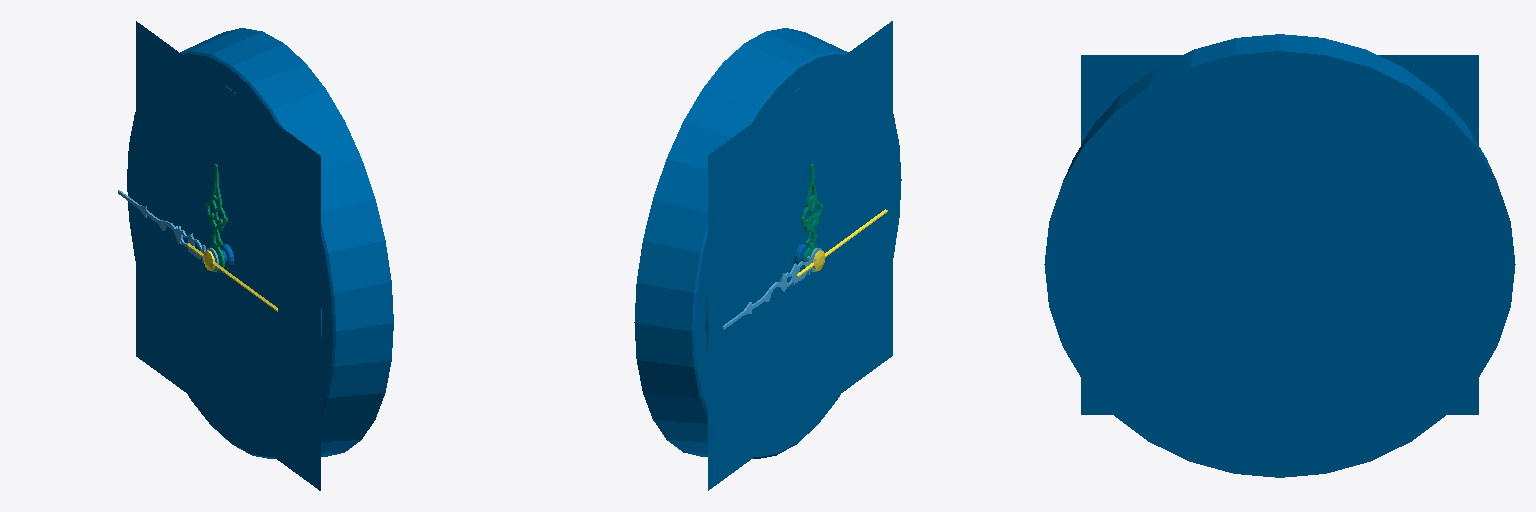
URDF robot description (partnet_fb0dbe220131e28f6402b8f491cd92c7):
<?xml version="1.0" ?>
<robot name="partnet_fb0dbe220131e28f6402b8f491cd92c7">
	<link name="base"/>
	<link name="link_0">
		<visual name="hand-8">
			<origin xyz="0.023237063303842342 -0.011120337189287621 -0.2147980000000005"/>
			<geometry>
				<mesh filename="textured_objs/original-5.obj"/>
			</geometry>
		</visual>
		<collision>
			<origin xyz="0.023237063303842342 -0.011120337189287621 -0.2147980000000005"/>
			<geometry>
				<mesh filename="textured_objs/original-5.obj"/>
			</geometry>
		</collision>
	</link>
	<joint name="joint_0" type="continuous">
		<origin xyz="-0.023237063303842342 0.011120337189287621 0.2147980000000005"/>
		<axis xyz="0 0 1"/>
		<child link="link_0"/>
		<parent link="link_3"/>
	</joint>
	<link name="link_1">
		<visual name="hand-9">
			<origin xyz="0.023237063303842342 -0.011120337189287621 -0.2147980000000005"/>
			<geometry>
				<mesh filename="textured_objs/original-4.obj"/>
			</geometry>
		</visual>
		<collision>
			<origin xyz="0.023237063303842342 -0.011120337189287621 -0.2147980000000005"/>
			<geometry>
				<mesh filename="textured_objs/original-4.obj"/>
			</geometry>
		</collision>
	</link>
	<joint name="joint_1" type="continuous">
		<origin xyz="-0.023237063303842342 0.011120337189287621 0.2147980000000005"/>
		<axis xyz="0 0 1"/>
		<child link="link_1"/>
		<parent link="link_3"/>
	</joint>
	<link name="link_2">
		<visual name="hand-10">
			<origin xyz="0.023237063303842342 -0.011120337189287621 -0.2147980000000005"/>
			<geometry>
				<mesh filename="textured_objs/original-3.obj"/>
			</geometry>
		</visual>
		<collision>
			<origin xyz="0.023237063303842342 -0.011120337189287621 -0.2147980000000005"/>
			<geometry>
				<mesh filename="textured_objs/original-3.obj"/>
			</geometry>
		</collision>
	</link>
	<joint name="joint_2" type="continuous">
		<origin xyz="-0.023237063303842342 0.011120337189287621 0.2147980000000005"/>
		<axis xyz="0 0 1"/>
		<child link="link_2"/>
		<parent link="link_3"/>
	</joint>
	<link name="link_3">
		<visual name="frame-7">
			<origin xyz="0 0 0"/>
			<geometry>
				<mesh filename="textured_objs/original-2.obj"/>
			</geometry>
		</visual>
		<visual name="surface-11">
			<origin xyz="0 0 0"/>
			<geometry>
				<mesh filename="textured_objs/original-7.obj"/>
			</geometry>
		</visual>
		<visual name="surface-11">
			<origin xyz="0 0 0"/>
			<geometry>
				<mesh filename="textured_objs/original-8.obj"/>
			</geometry>
		</visual>
		<visual name="surface-11">
			<origin xyz="0 0 0"/>
			<geometry>
				<mesh filename="textured_objs/original-1.obj"/>
			</geometry>
		</visual>
		<collision>
			<origin xyz="0 0 0"/>
			<geometry>
				<mesh filename="textured_objs/original-2.obj"/>
			</geometry>
		</collision>
		<collision>
			<origin xyz="0 0 0"/>
			<geometry>
				<mesh filename="textured_objs/original-7.obj"/>
			</geometry>
		</collision>
		<collision>
			<origin xyz="0 0 0"/>
			<geometry>
				<mesh filename="textured_objs/original-8.obj"/>
			</geometry>
		</collision>
		<collision>
			<origin xyz="0 0 0"/>
			<geometry>
				<mesh filename="textured_objs/original-1.obj"/>
			</geometry>
		</collision>
	</link>
	<joint name="joint_3" type="fixed">
		<origin rpy="1.570796326794897 0 -1.570796326794897" xyz="0 0 0"/>
		<child link="link_3"/>
		<parent link="base"/>
	</joint>
</robot>

--- What the picture shows (computed from the rendered views, not written in the file) ---
3 views of the same robot in one strip: view 1: azimuth 30°, elevation 25°; view 2: azimuth 150°, elevation 25°; view 3: azimuth 270°, elevation 25° (orthographic).
Model partnet_fb0dbe220131e28f6402b8f491cd92c7 with 5 links and 4 joints (3 continuous, 1 fixed), rooted at base, posed all joints at 0.
Visible links, largest first — view 1: link_3, link_1, link_0, link_2; view 2: link_3, link_0, link_1, link_2; view 3: link_3.
Link boxes in pixels (x1=…): link_3: x1=127, y1=21, x2=393, y2=490; link_1: x1=206, y1=164, x2=227, y2=272; link_0: x1=118, y1=190, x2=218, y2=271; link_2: x1=187, y1=243, x2=277, y2=311; link_3: x1=634, y1=21, x2=901, y2=490; link_0: x1=722, y1=248, x2=822, y2=329; link_1: x1=801, y1=164, x2=822, y2=272; link_2: x1=797, y1=209, x2=887, y2=277; link_3: x1=1044, y1=34, x2=1515, y2=477.
Size in the robot's own frame: 0.3743 by 1.85 by 1.85 metres.
7 mesh visuals loaded from 7 distinct referenced files (7 OBJ).
